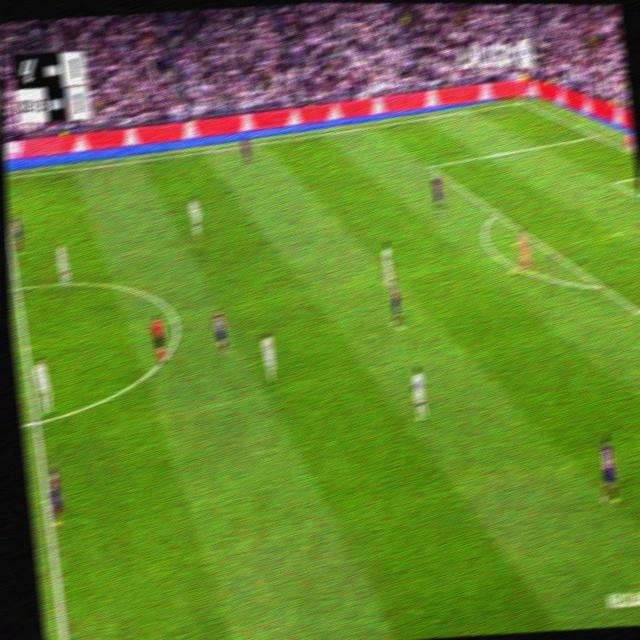bigarea_top_inner: (424, 158, 434, 172)
bottom_arc_area_intersection: (595, 275, 607, 295)
corner: (515, 94, 527, 106)
halfcircle_bottom: (28, 407, 45, 434)
halfcircle_top: (9, 274, 24, 300)
smallarea_top_inner: (609, 176, 617, 187)
top_arc_area_intersection: (490, 205, 500, 218)
